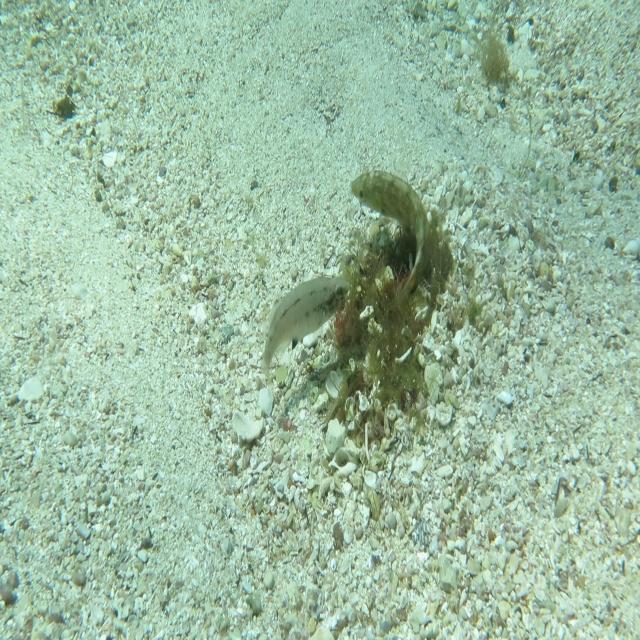SPA: (351, 168, 435, 314)
female: (259, 272, 352, 401)
nest: (326, 183, 464, 465)
